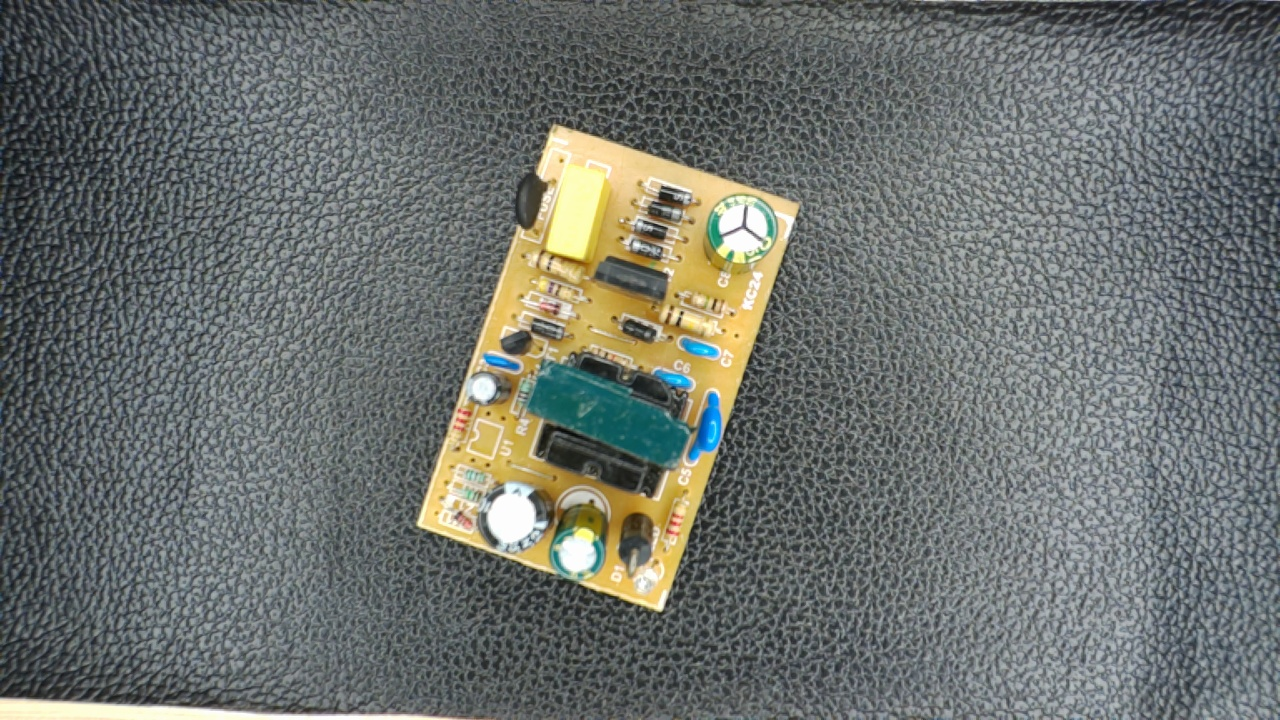fuse: (510, 164, 555, 248)
hv_capacitor: (701, 188, 780, 281)
mov: (684, 386, 731, 473)
